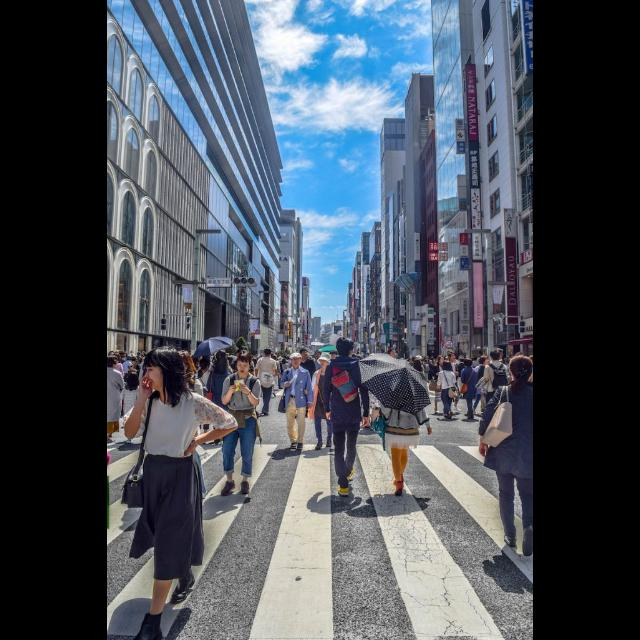head: (144, 348, 183, 390), (172, 353, 190, 379), (336, 337, 356, 358), (236, 353, 252, 375), (396, 372, 410, 388), (200, 358, 212, 372), (237, 347, 249, 361), (291, 356, 303, 368), (490, 351, 502, 363), (108, 356, 119, 368), (217, 351, 227, 363), (320, 356, 330, 368), (478, 356, 488, 366), (130, 372, 138, 383), (300, 348, 308, 358), (438, 356, 446, 366), (450, 352, 458, 362), (264, 349, 272, 358), (466, 358, 474, 367)
person: (152, 350, 208, 554), (357, 352, 435, 498), (322, 336, 371, 498), (215, 348, 263, 500), (278, 352, 316, 454), (304, 352, 341, 452), (475, 349, 513, 433), (228, 344, 262, 432), (206, 350, 234, 446), (188, 356, 216, 446), (290, 347, 318, 421), (118, 368, 142, 446), (428, 354, 456, 418), (254, 347, 278, 417), (108, 356, 126, 444), (472, 353, 496, 417), (461, 356, 482, 422), (446, 351, 464, 415)
